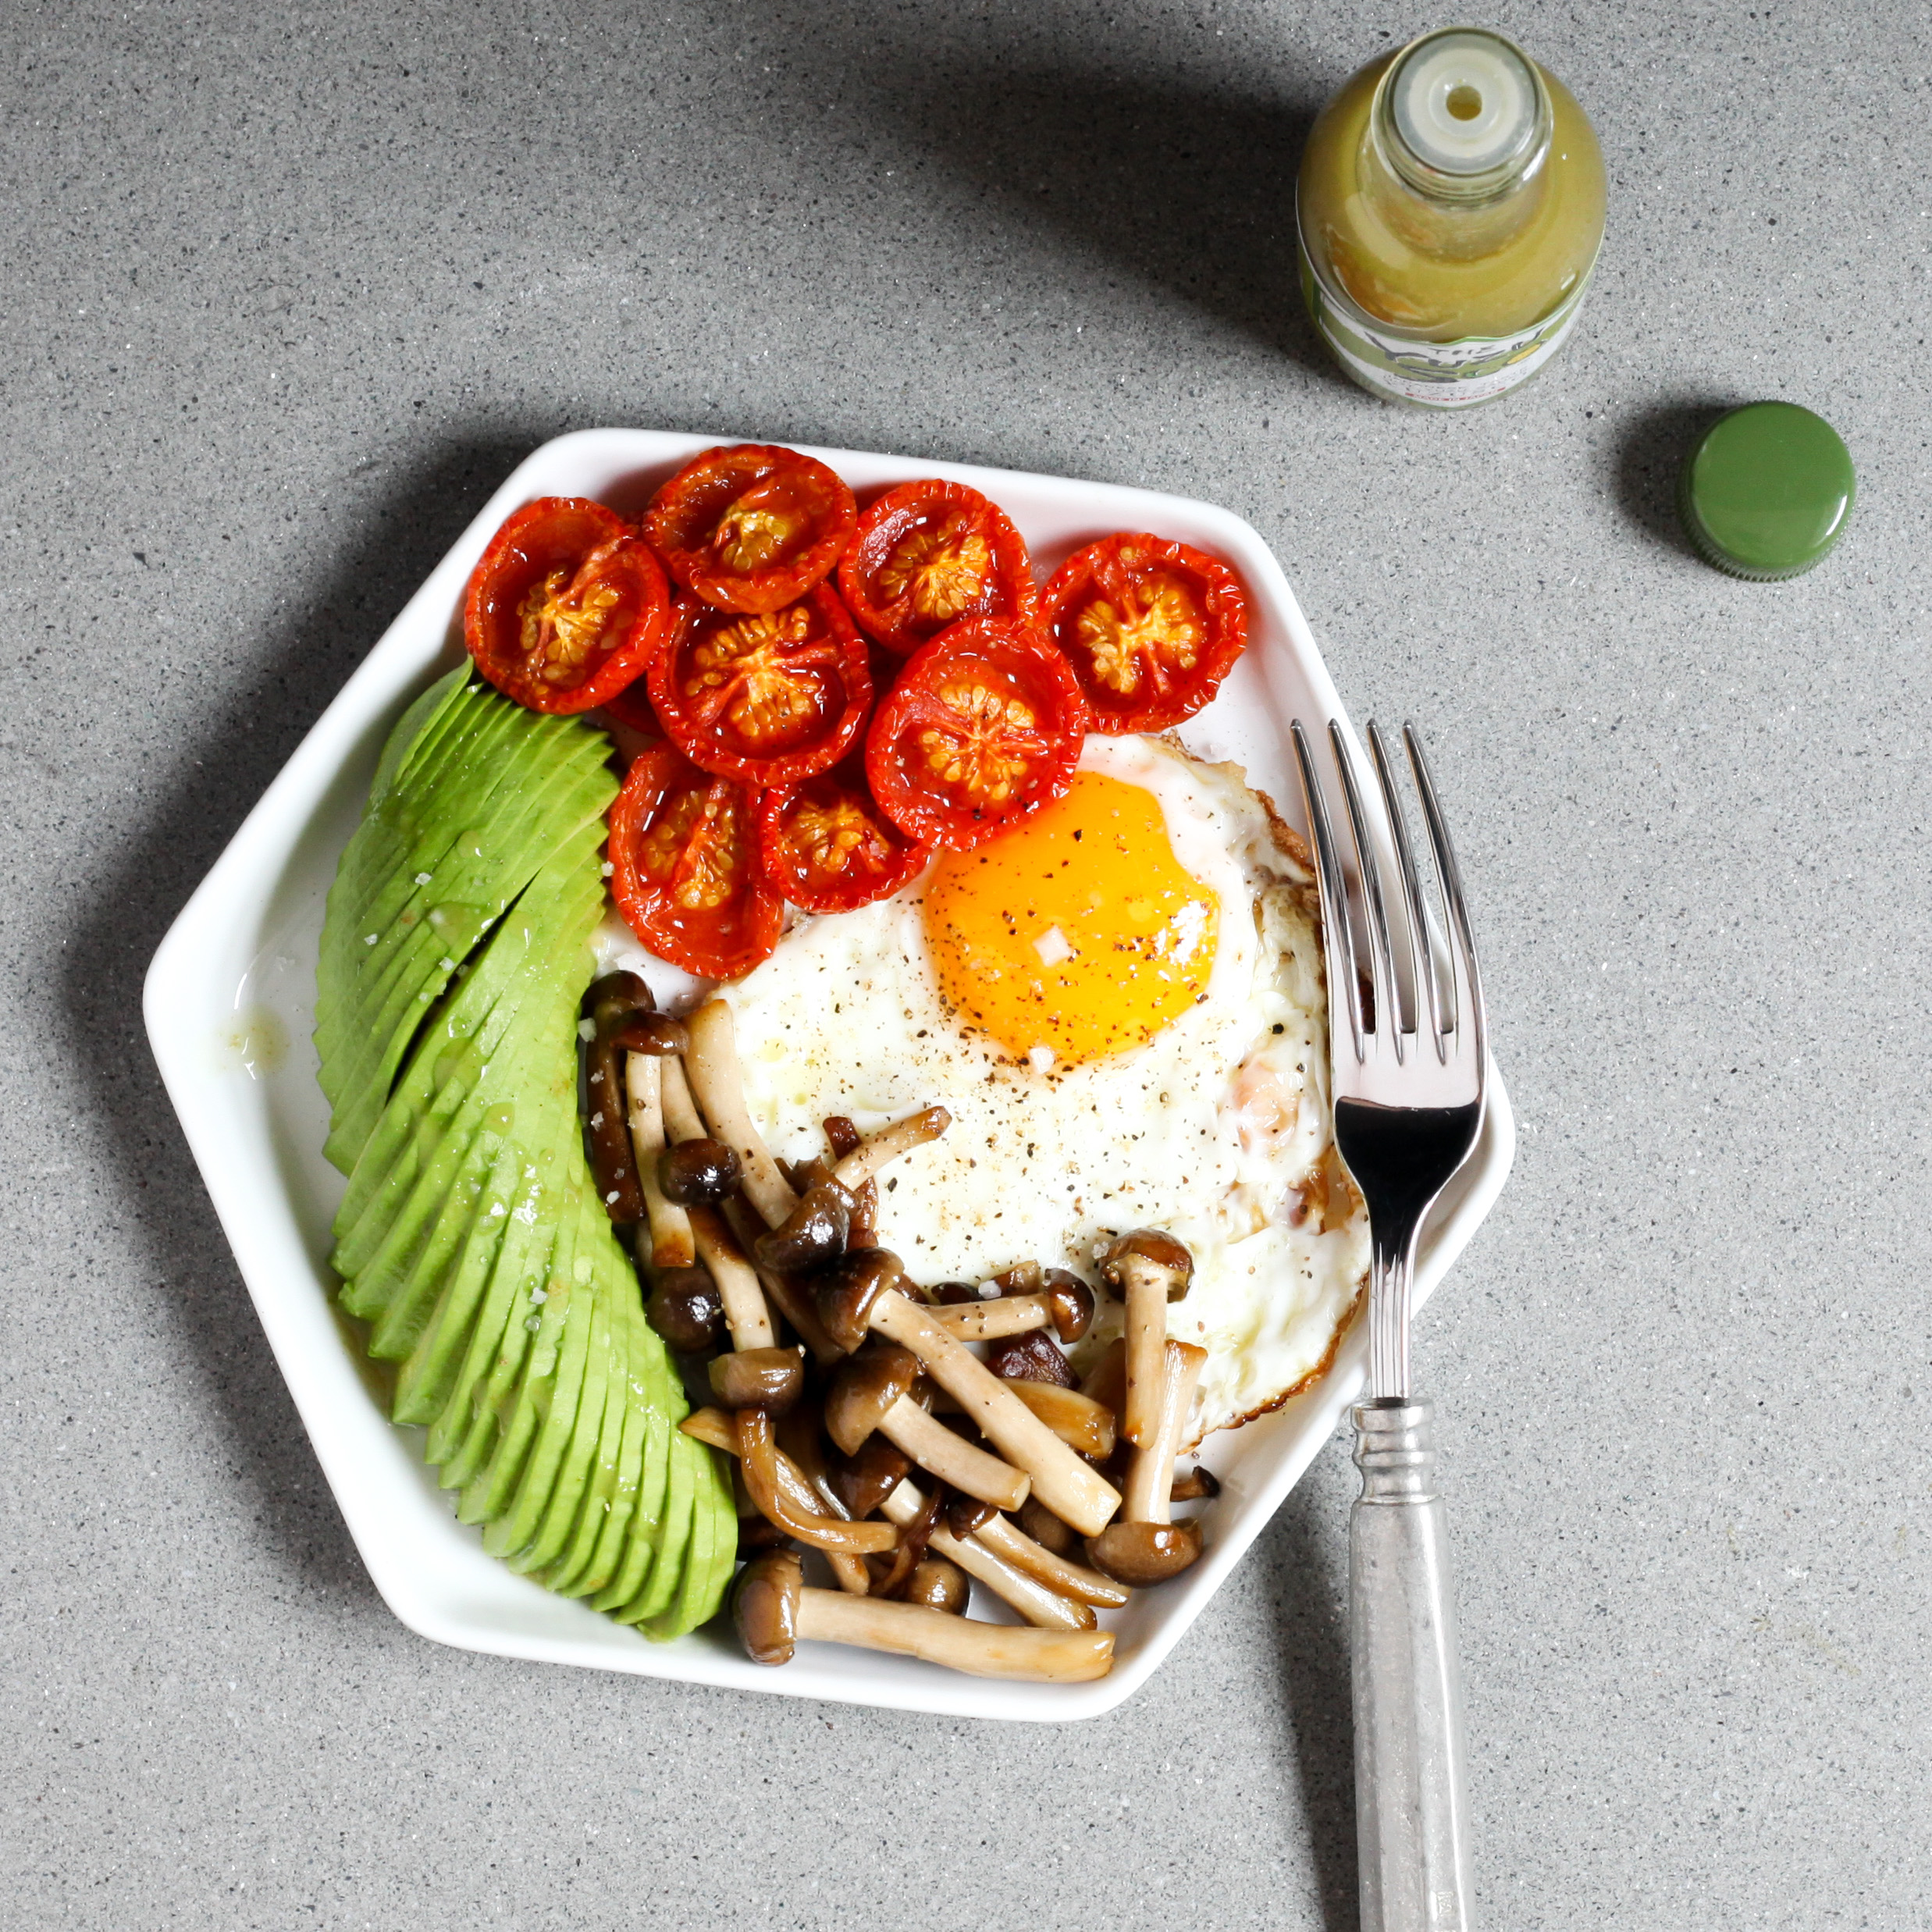fried egg: (893, 839, 1274, 1327)
